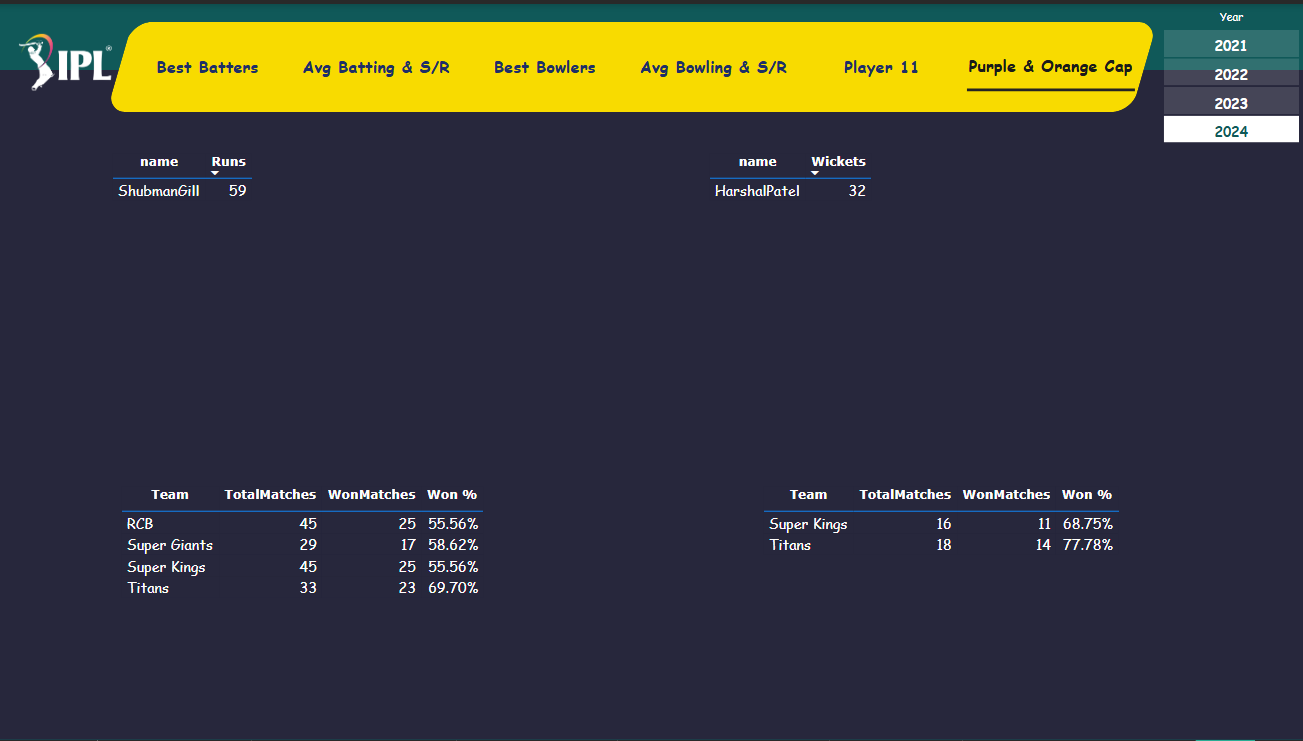

Layout of this report page (visuals, bound fields, positions):
{"tool":"powerbi","page":{"name":"Purple & Orange Cap","canvas":[1280,720],"ordinal":5},"visuals":[{"type":"shape","box":[0,64.6,1280.5,655.2],"z":0},{"type":"shape","box":[107.1,17.6,1028.7,88],"z":1000},{"type":"image","box":[15.8,20.5,100.8,72.5],"z":2000},{"type":"advancedSlicerVisual","fields":{"Values":["BestXI_AllSeasons.Year"]},"box":[1135.8,4.4,143.8,137.9],"z":3000},{"type":"pageNavigator","box":[123.3,36.7,994.9,49.9],"z":5000},{"type":"tableEx","fields":{"Values":["BestXI_AllSeasons.name","BestXI_AllSeasons.Runs"]},"box":[107.2,141,299.8,71.5],"z":5001},{"type":"tableEx","fields":{"Values":["BestXI_AllSeasons.name","BestXI_AllSeasons.Wickets"]},"box":[691,141,299.8,71.5],"z":5002},{"type":"tableEx","fields":{"Values":["MatchesPlayed.Team","MatchesPlayed.TotalMatches","MatchesPlayed.WonMatches","MatchesPlayed.Won %"]},"box":[116.6,466.2,474.1,124.4],"z":5003},{"type":"tableEx","fields":{"Values":["Top2ChasingStats.Team","Top2ChasingStats.TotalMatches","Top2ChasingStats.WonMatches","Top2ChasingStats.Won %"]},"box":[743.4,466.2,518.2,83.5],"z":5004}]}

Visuals, with their boxes in screenshot pixels (x1, y1, x2, y2), scaled from the page's 1280x720 canvas onto the 1303x741 screenshot:
shape: 0,66,1302,740
shape: 109,18,1156,109
image: 16,21,119,96
advancedSlicerVisual - BestXI_AllSeasons.Year: 1156,5,1302,146
pageNavigator: 126,38,1138,89
tableEx - BestXI_AllSeasons.name x BestXI_AllSeasons.Runs: 109,145,414,219
tableEx - BestXI_AllSeasons.name x BestXI_AllSeasons.Wickets: 703,145,1009,219
tableEx - MatchesPlayed.Team x MatchesPlayed.TotalMatches: 119,480,601,608
tableEx - Top2ChasingStats.Team x Top2ChasingStats.TotalMatches: 757,480,1284,566
